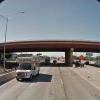Bridge: (7, 25, 98, 60)
